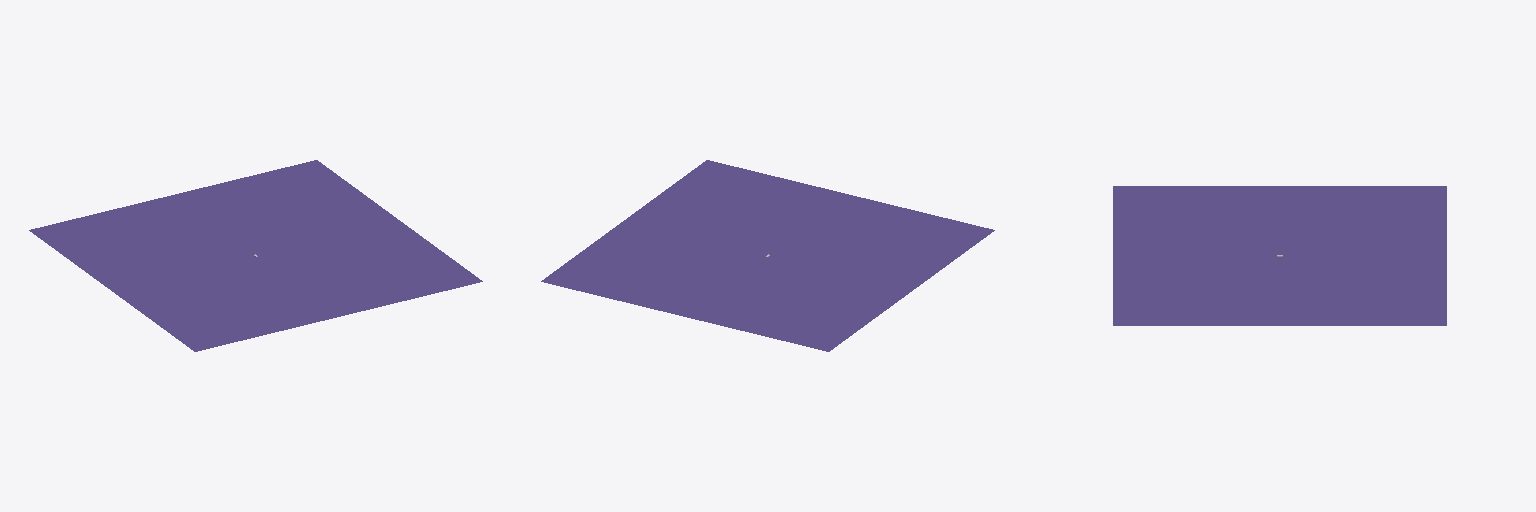
File: level0.obj
The picture shows the model from 3 angles: view 1: azimuth 30°, elevation 25°; view 2: azimuth 150°, elevation 25°; view 3: azimuth 270°, elevation 25°; orthographic projection.
Parts seen in each view (by area): view 1: Plane_Plane.001; view 2: Plane_Plane.001; view 3: Plane_Plane.001.
Part boxes in pixels (bbox=[...]): Plane_Plane.001: bbox=[29, 160, 482, 351]; Plane_Plane.001: bbox=[541, 160, 994, 351]; Plane_Plane.001: bbox=[1113, 186, 1446, 325].
Size of the model in its own units: 1000 by 3.07 by 1000.